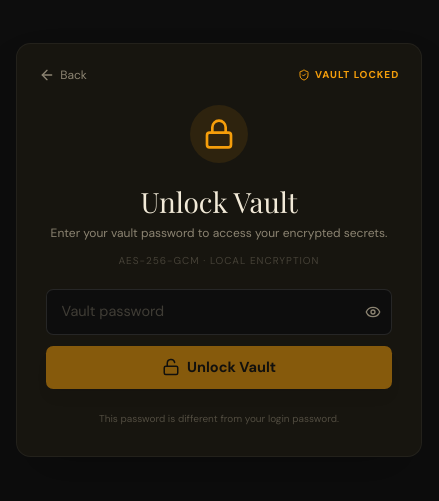
Test: VaultLocked Component › shows error if wrong password is entered during unlock
Expected: the heading "Unlock Vault" is shown, [140,183,298,220]
Type "wrongPassword123" into the password field with placeholder "Vault password". click: (219, 312)
box: [46,289,392,335]
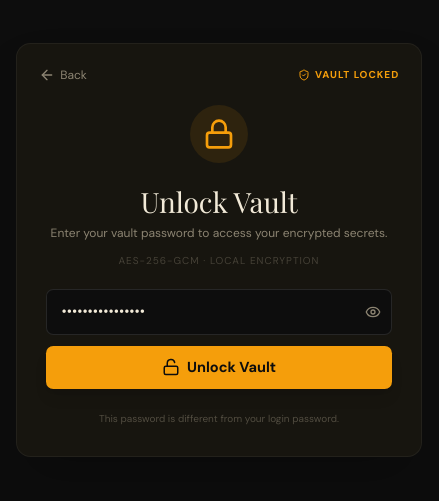
Click the button "Unlock Vault". click: (219, 367)
box: [46,346,392,389]
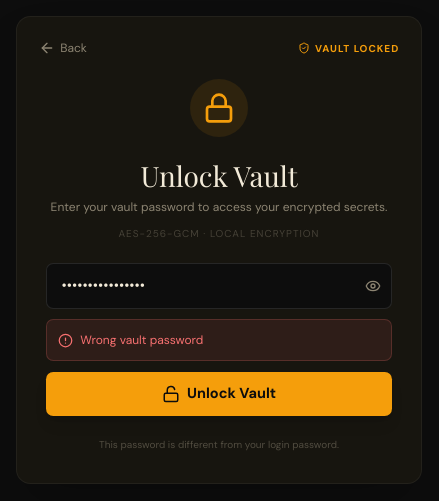
Expected: the text "Wrong vault password" is shown, [80,331,203,349]
